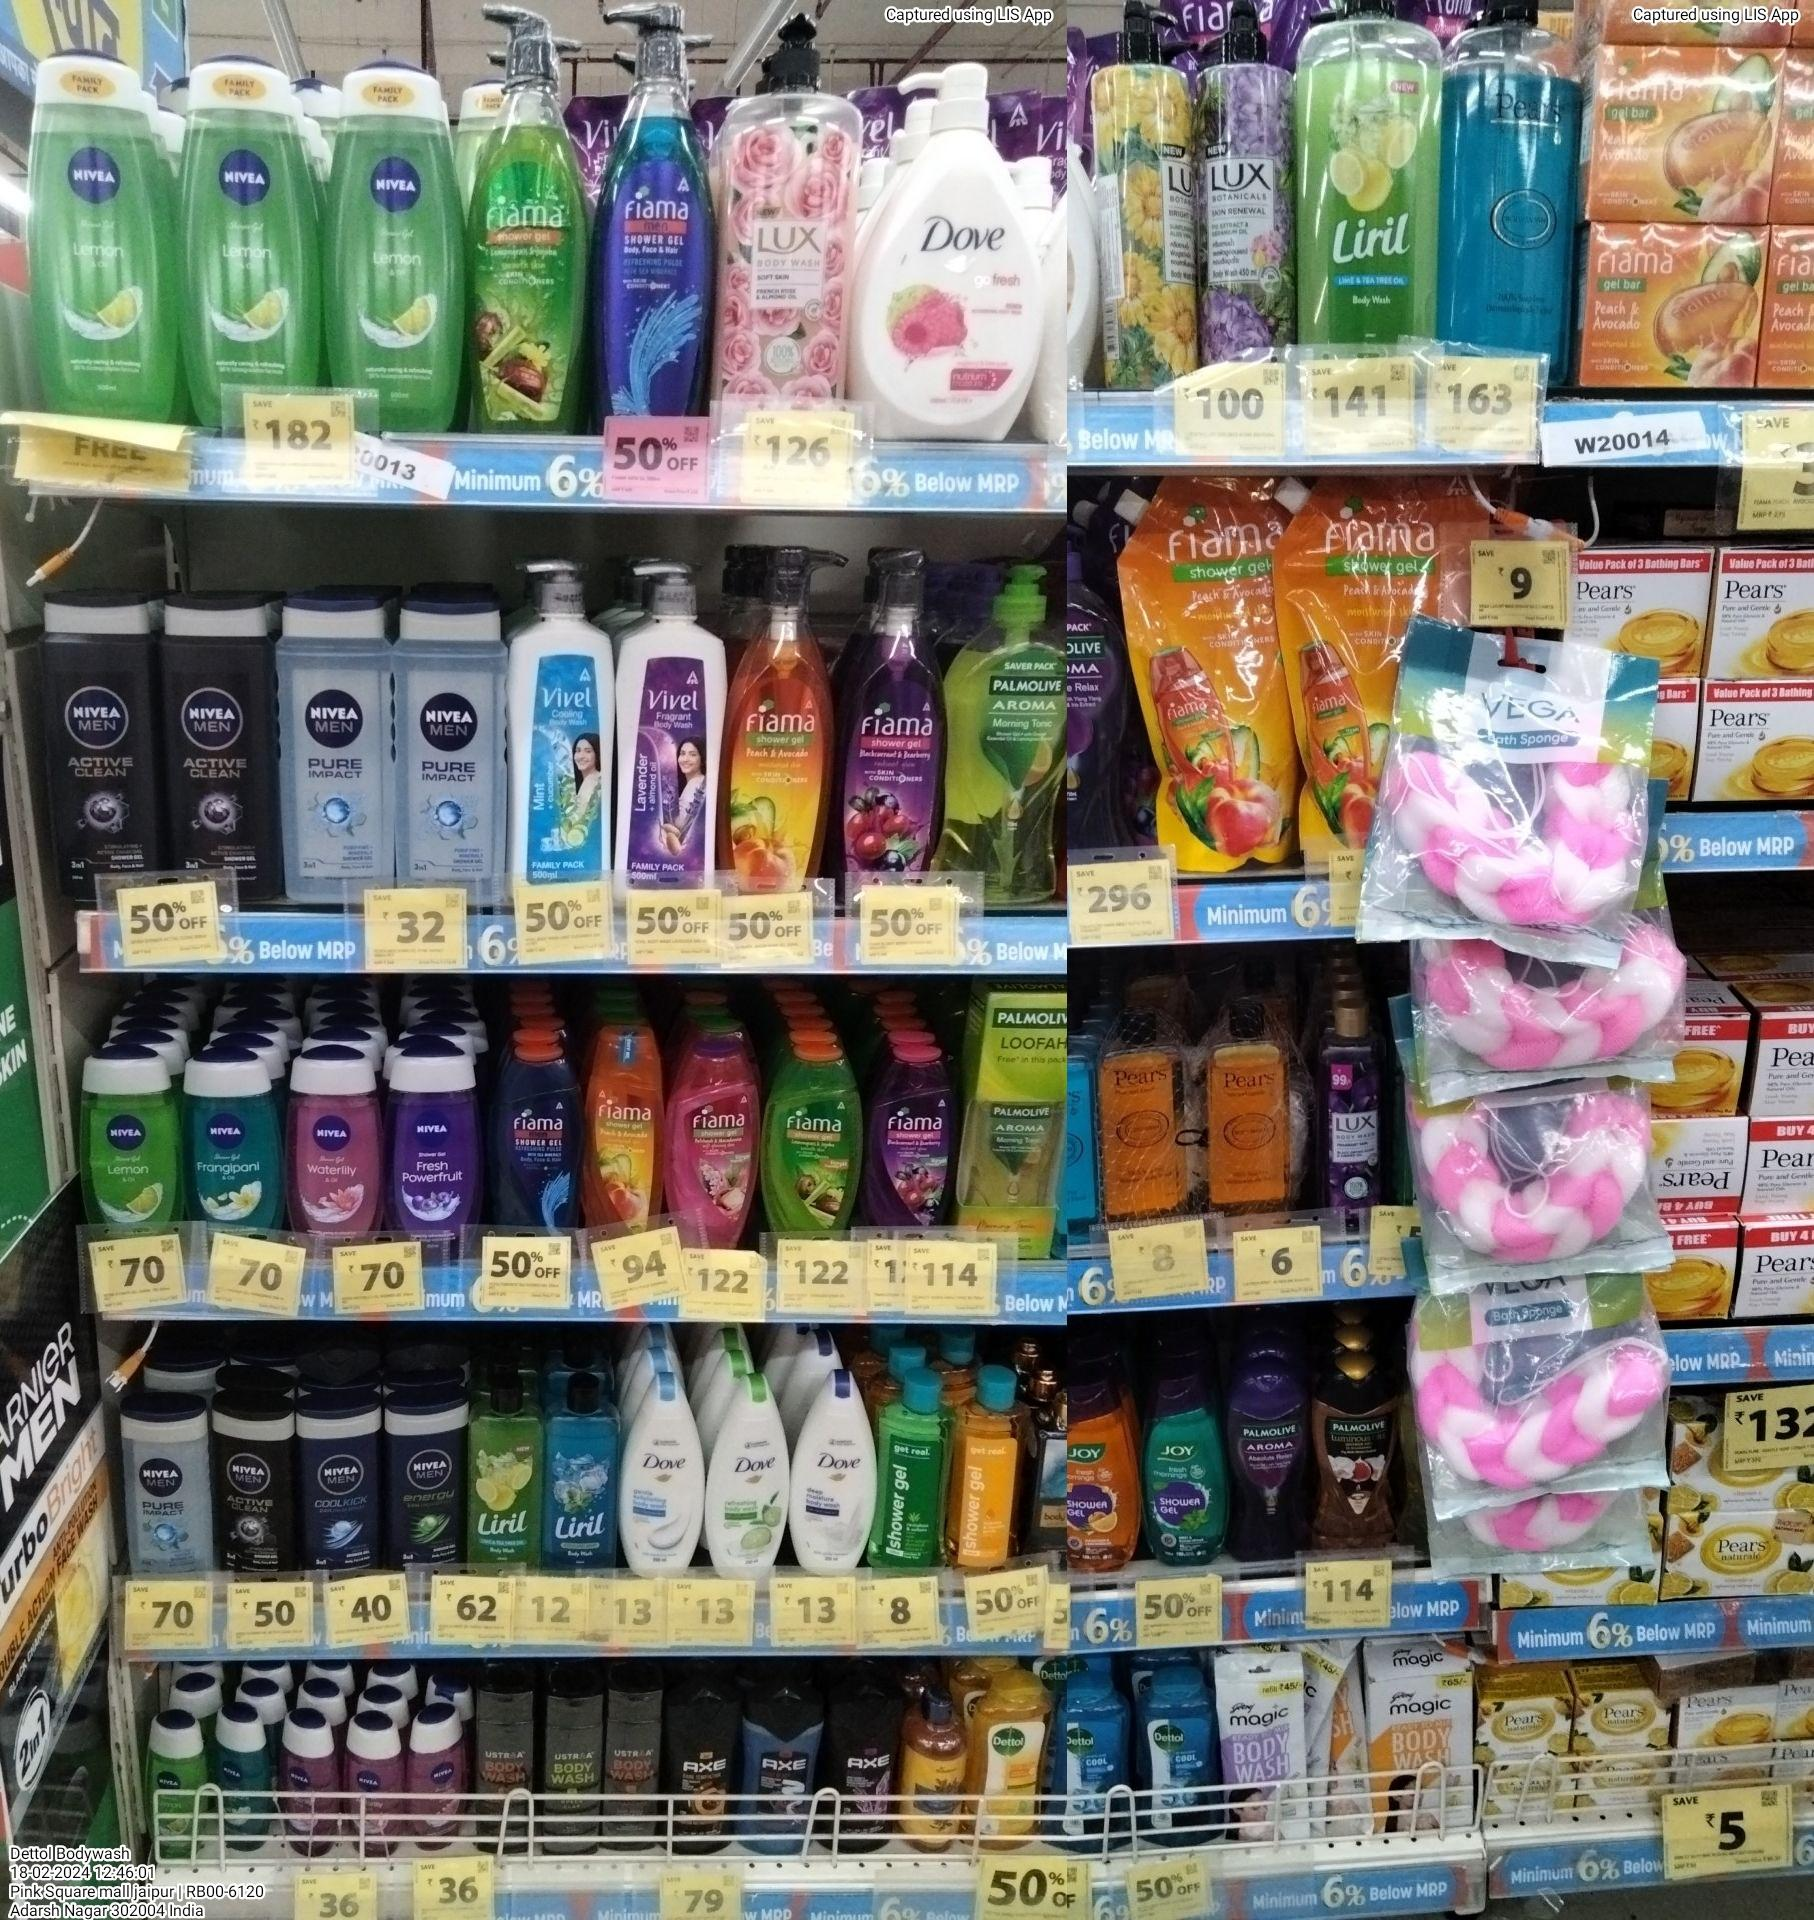Dettol_Bodywash_Cool: (1137, 1661, 1217, 1845), (1066, 1664, 1132, 1853)
Dettol_Bodywash_Refresh: (962, 1668, 1043, 1853)
Dove_Deep_Moisture_Body_Wash_250ML: (793, 1376, 878, 1572)
Dove_Gentle_Exfoliating_Body_Wash_250ML: (622, 1371, 704, 1574)
Dove_Refreshing_Body_Wash_250ML: (711, 1376, 789, 1579)
Fiama_Shower_Gel_Lemongrass_and_Jojoba_250ML: (760, 1037, 854, 1231)
Fiama_Shower_Gel_Patchouli_and_Macadamia_250ML: (663, 1044, 755, 1255)
Joy_Shower_Gel_Mandarin_and_Lemongrass_250ML: (1144, 1362, 1228, 1560), (1066, 1362, 1142, 1570)
Liril_Cooling_Mint_Body_Wash_250ML: (542, 1371, 609, 1567)
Liril_Lime_and_Tea_Tree_Oil_Body_Wash_250ML: (471, 1386, 542, 1577)
Nivea_Shower_Gel_Frangipani_and_Oil_250ML: (188, 1040, 286, 1236)
Nivea_Shower_Gel_Fresh_Powerfruit_250ML: (387, 1035, 471, 1255)
Nivea_Shower_Gel_Lemon_and_Oil_250ML: (29, 49, 179, 421), (326, 58, 455, 431), (182, 53, 322, 396), (82, 1033, 184, 1223)
Nivea_Shower_Gel_Waterlily_and_Oil_250ML: (295, 1045, 372, 1236)
Palmolive_Aroma_Relax_250ML: (1231, 1356, 1304, 1560)
Palmolive_Luminous_Oils_With_White_Orchid_Shower_Gel_250ML: (1309, 1349, 1393, 1552)
